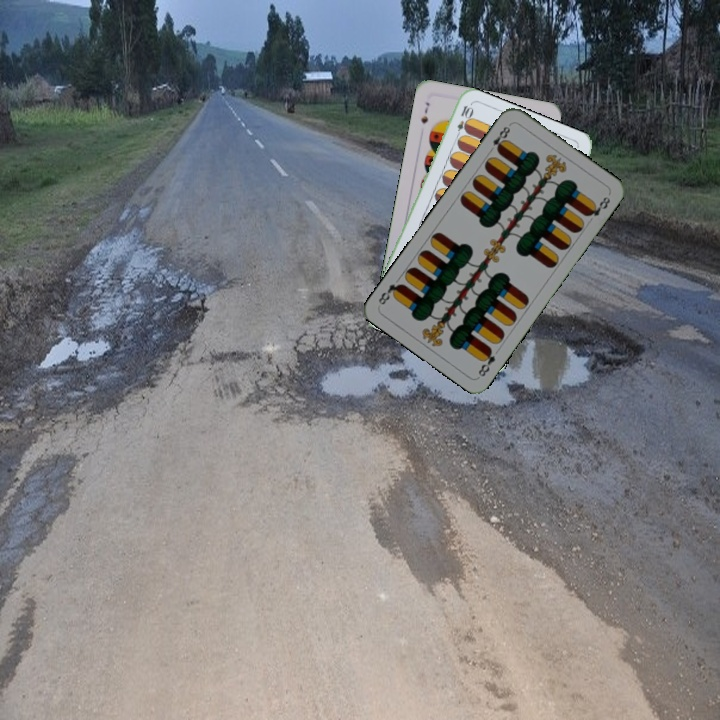E10: (452, 101, 474, 141)
E8: (485, 120, 514, 155), (474, 344, 498, 379)
S7: (417, 98, 432, 126)
